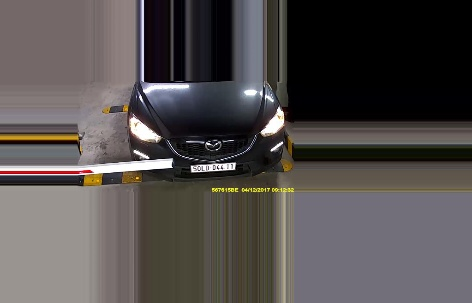plate: (188, 160, 239, 172)
